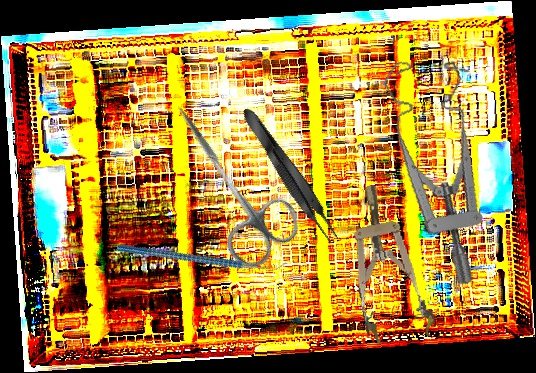Chopper: (115, 189, 288, 322)
Iris Scissors: (143, 84, 311, 277)
Speculum: (348, 48, 515, 289), (337, 178, 438, 349)
Tissue Forceps: (236, 102, 344, 247)
